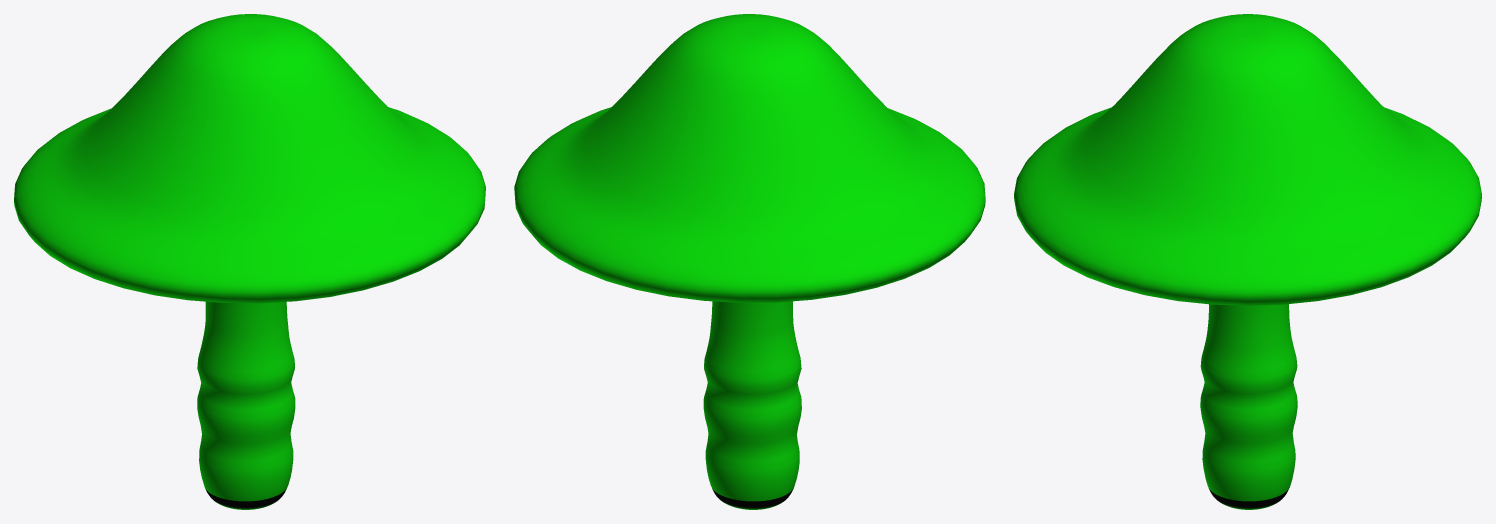
The model's file is Amantiamascura_shroom.fbx.
The picture shows the model from 3 angles, left to right: view 1: azimuth 30°, elevation 25°; view 2: azimuth 150°, elevation 25°; view 3: azimuth 270°, elevation 25°; orthographic projection.
Parts seen in each view (by area): view 1: polySurface16; view 2: polySurface16; view 3: polySurface16.
Part boxes in pixels (x1,y1,x2,y2): polySurface16: [14, 14, 485, 509]; polySurface16: [514, 14, 985, 509]; polySurface16: [1014, 14, 1481, 509].
Bounding box in the file's own units: 2.32 × 2.54 × 2.28.
